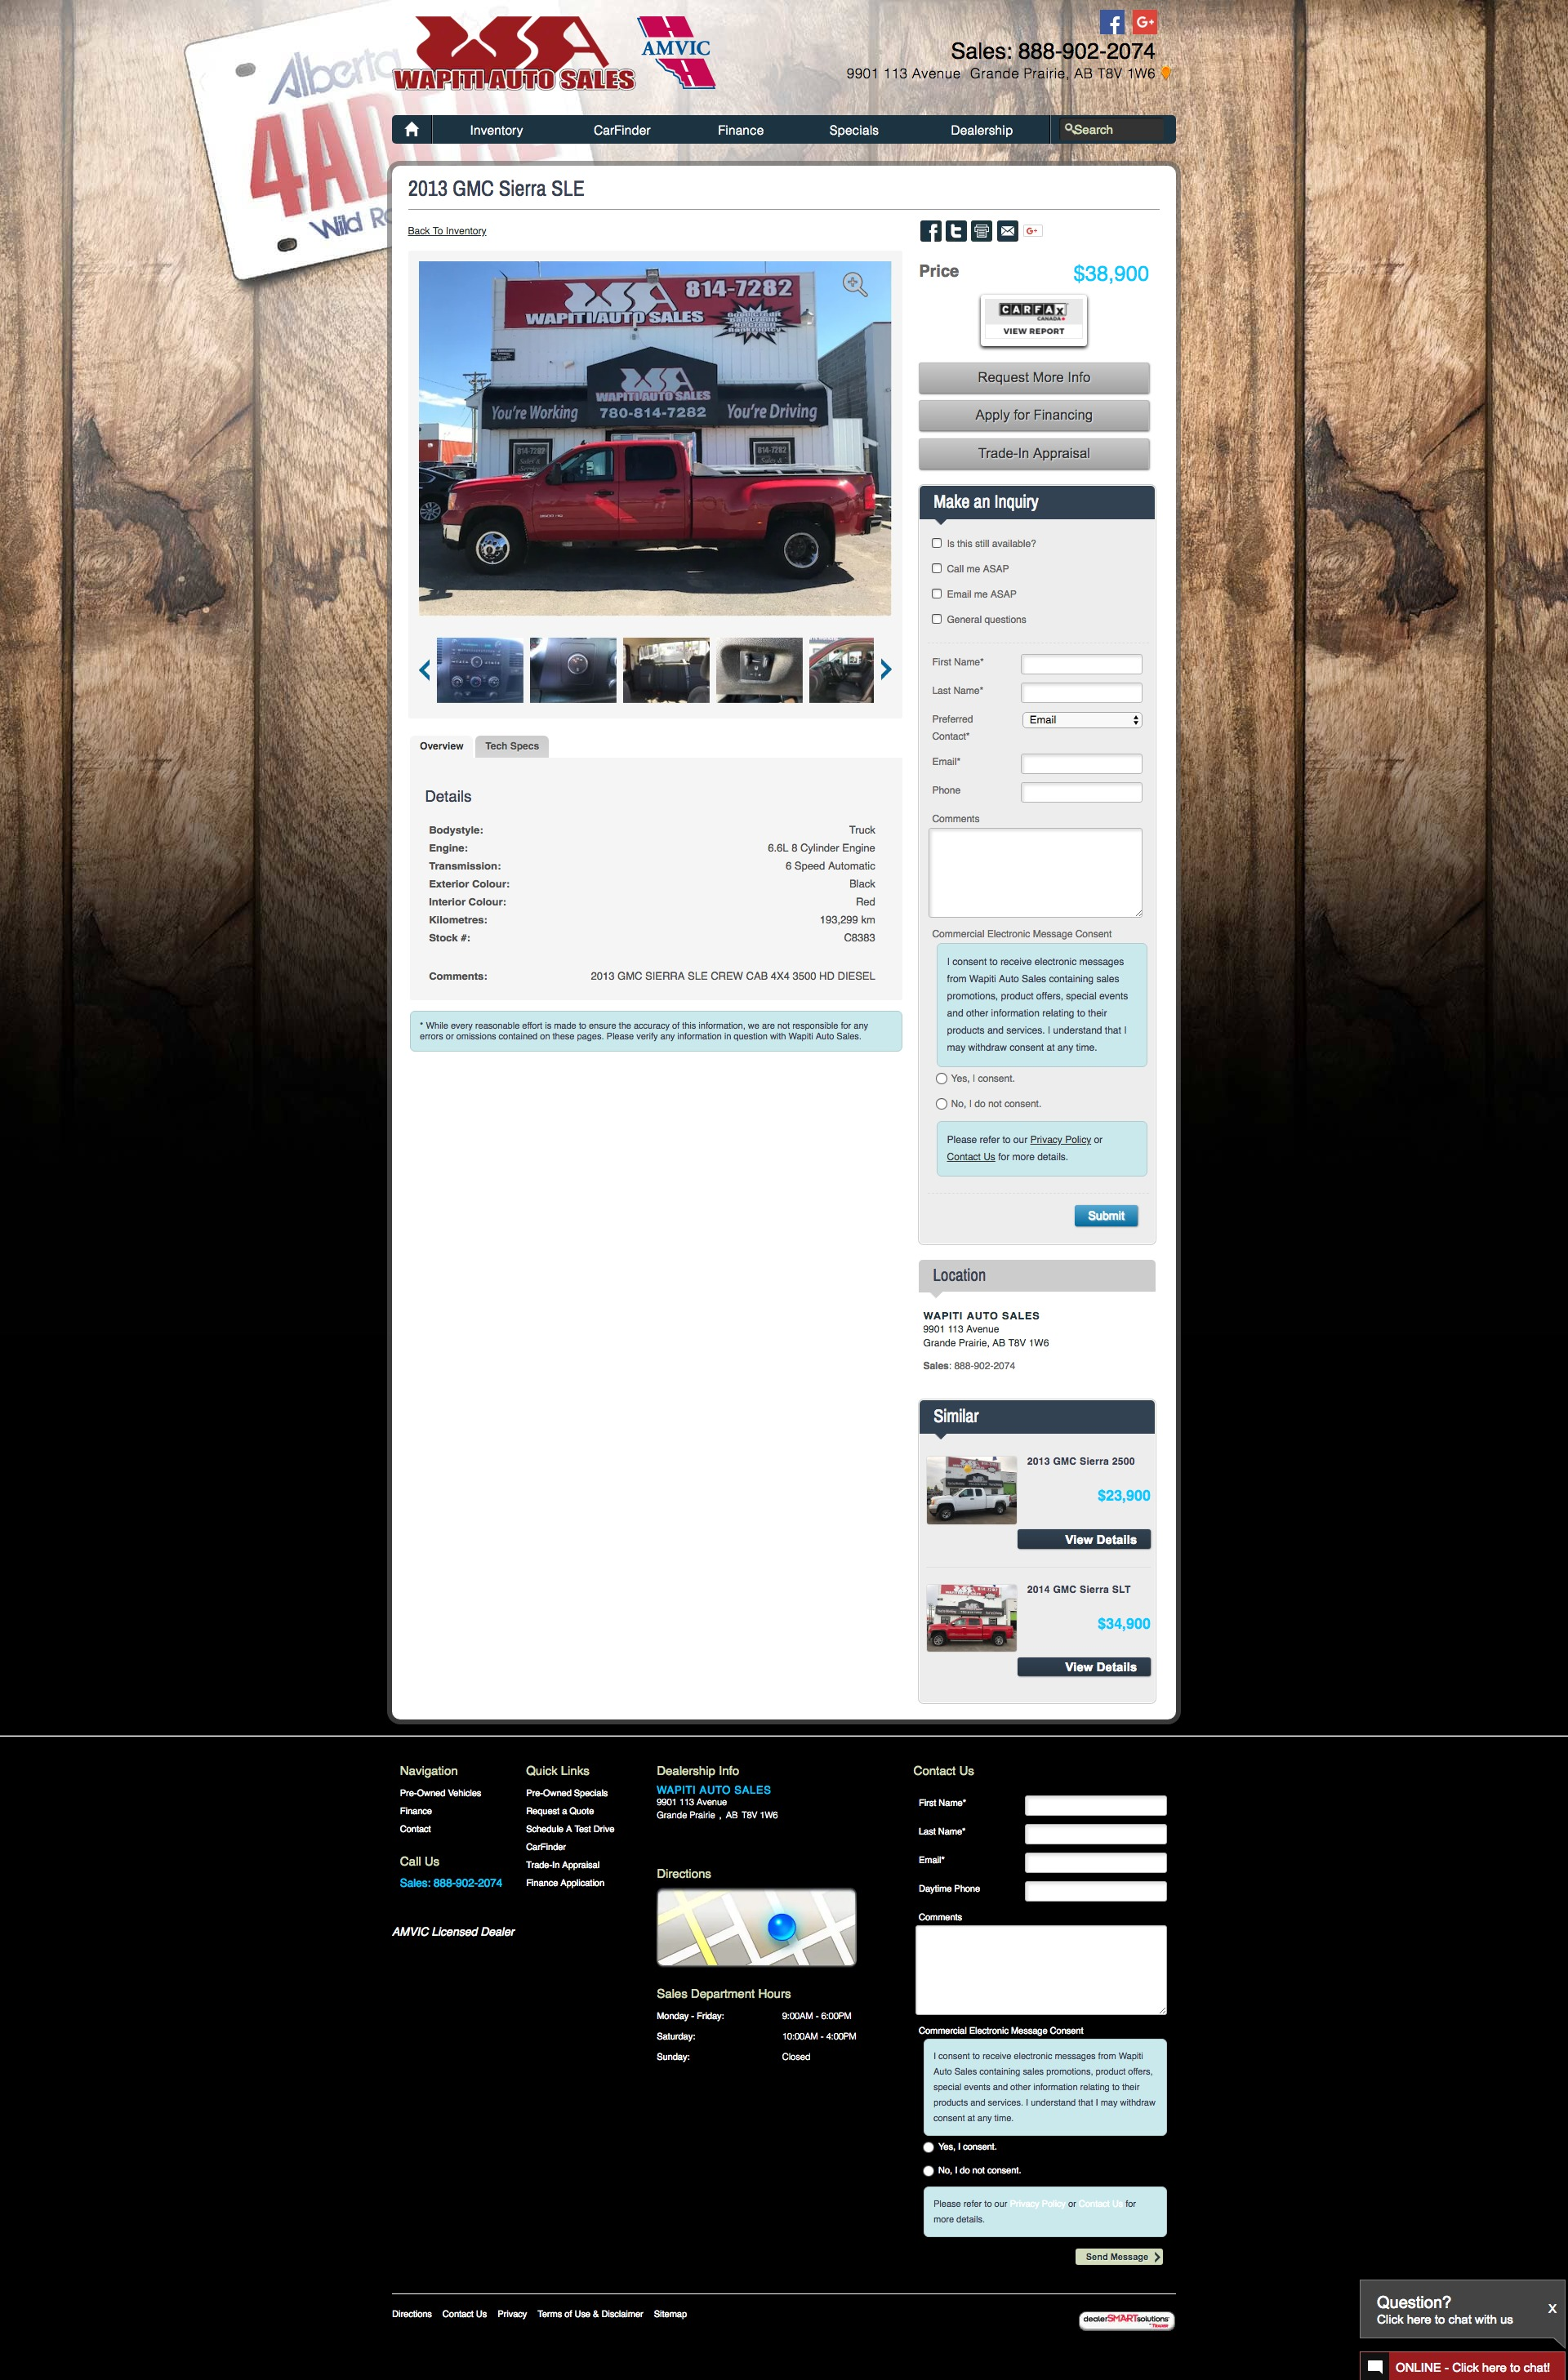car: (880, 659, 894, 682)
